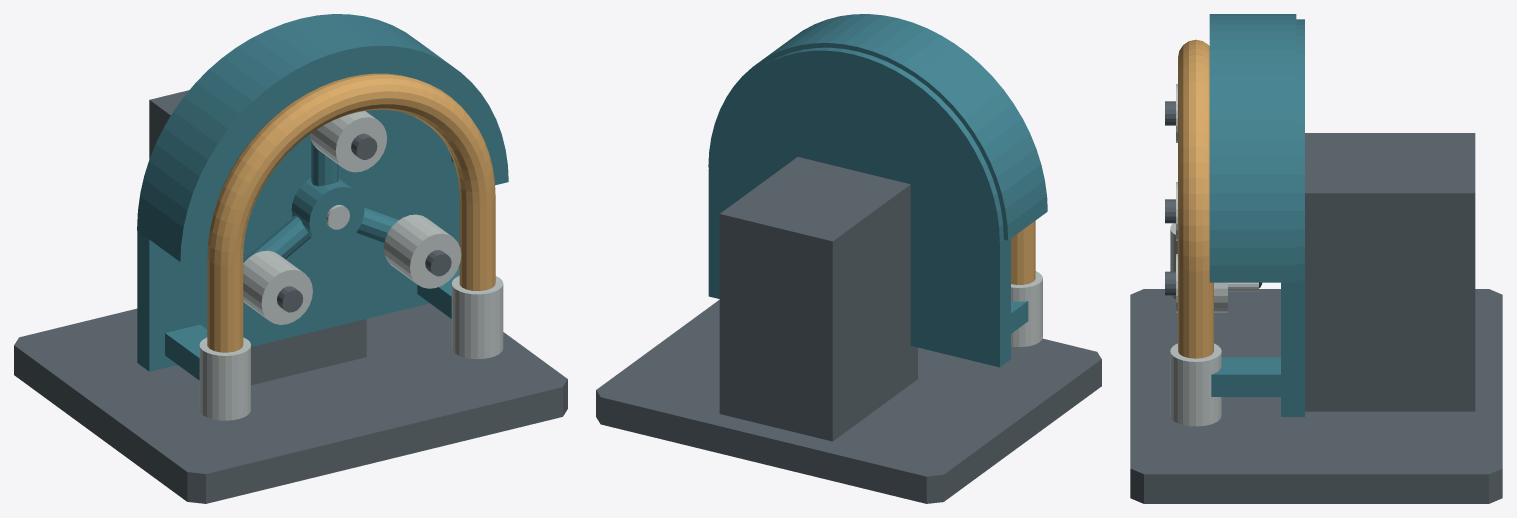
3 views of the same model, side by side, from view 1: azimuth 30°, elevation 25°; view 2: azimuth 150°, elevation 25°; view 3: azimuth 270°, elevation 25° (orthographic). The views are drawn at different scales.
Visible parts, largest first — view 1: WholeGroundedMachineBed, WholeDShapedHeadBackplate, WholeOpenSemicircularHeadArch, WholeContinuousOpenMouthUTube, WholeRearMotorHousing, WholeAnnularEndCollarR, WholeAnnularEndCollarL, WholeBluntRoller2, WholeBluntRoller1, WholeFrontCarrierHub, WholeBluntRoller0, WholeCollarRearMountL (+4 smaller); view 2: WholeRearMotorHousing, WholeDShapedHeadBackplate, WholeGroundedMachineBed, WholeOpenSemicircularHeadArch, WholeAnnularEndCollarL, WholeContinuousOpenMouthUTube; view 3: WholeRearMotorHousing, WholeGroundedMachineBed, WholeOpenSemicircularHeadArch, WholeContinuousOpenMouthUTube, WholeDShapedHeadBackplate, WholeAnnularEndCollarR, WholeCollarRearMountR, WholeBluntRoller2.
Boxes of the visible parts, <box> form: WholeGroundedMachineBed: <box>14,303,567,503</box>; WholeDShapedHeadBackplate: <box>137,31,459,371</box>; WholeOpenSemicircularHeadArch: <box>137,14,508,261</box>; WholeContinuousOpenMouthUTube: <box>207,73,495,352</box>; WholeRearMotorHousing: <box>149,90,366,385</box>; WholeAnnularEndCollarR: <box>451,276,503,359</box>; WholeAnnularEndCollarL: <box>199,337,250,420</box>; WholeBluntRoller2: <box>384,214,461,288</box>; WholeBluntRoller1: <box>243,250,312,324</box>; WholeFrontCarrierHub: <box>291,178,364,245</box>; WholeBluntRoller0: <box>310,111,386,172</box>; WholeCollarRearMountL: <box>165,324,207,380</box>; WholeRearMotorHousing: <box>719,157,917,441</box>; WholeDShapedHeadBackplate: <box>708,47,1010,367</box>; WholeGroundedMachineBed: <box>596,300,1101,503</box>; WholeOpenSemicircularHeadArch: <box>708,14,1047,240</box>; WholeAnnularEndCollarL: <box>1011,271,1042,346</box>; WholeContinuousOpenMouthUTube: <box>1011,221,1035,284</box>; WholeRearMotorHousing: <box>1305,133,1475,411</box>; WholeGroundedMachineBed: <box>1130,289,1502,503</box>; WholeOpenSemicircularHeadArch: <box>1209,14,1296,282</box>; WholeContinuousOpenMouthUTube: <box>1178,39,1213,358</box>; WholeDShapedHeadBackplate: <box>1281,19,1304,416</box>; WholeAnnularEndCollarR: <box>1170,343,1221,426</box>; WholeCollarRearMountR: <box>1211,357,1280,396</box>; WholeBluntRoller2: <box>1176,254,1227,312</box>.
Size of the model in its own units: 0.8 by 0.765 by 0.68.
